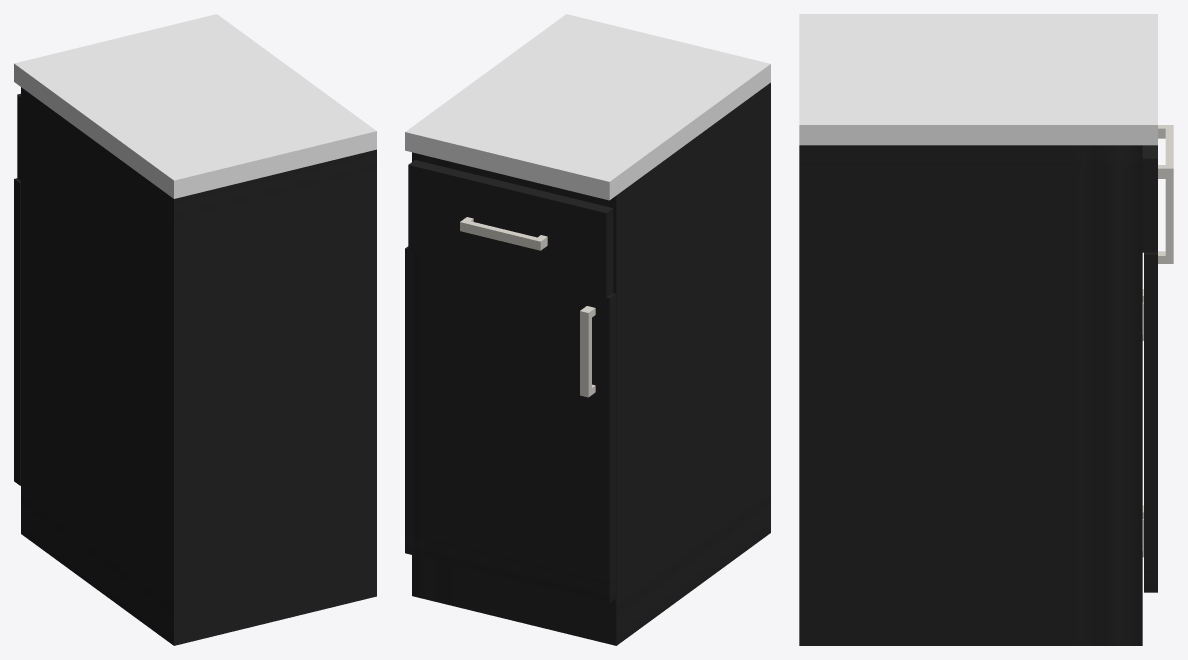
File: CabinetD04.glb
The picture shows the model from 3 angles, left to right: view 1: azimuth 30°, elevation 25°; view 2: azimuth 150°, elevation 25°; view 3: azimuth 270°, elevation 25°; orthographic projection. The views are drawn at different scales.
Parts seen in each view (by area): view 1: CabinetD04_model, CabinetD04Door; view 2: CabinetD04_model, CabinetD04Door, CabinetD04Drawer01; view 3: CabinetD04_model, CabinetD04Door, CabinetD04Drawer01.
Boxes of the visible parts, left/top/right/bottom form: CabinetD04_model: left=14, top=14, right=376, bottom=645; CabinetD04Door: left=14, top=178, right=20, bottom=485; CabinetD04_model: left=405, top=14, right=770, bottom=645; CabinetD04Door: left=405, top=246, right=615, bottom=602; CabinetD04Drawer01: left=408, top=160, right=613, bottom=297; CabinetD04_model: left=799, top=14, right=1157, bottom=645; CabinetD04Door: left=1142, top=179, right=1173, bottom=592; CabinetD04Drawer01: left=1142, top=125, right=1173, bottom=252.
Size of the model in its own units: 0.9256 by 2.02 by 1.31.
1 material, 1 textured.
